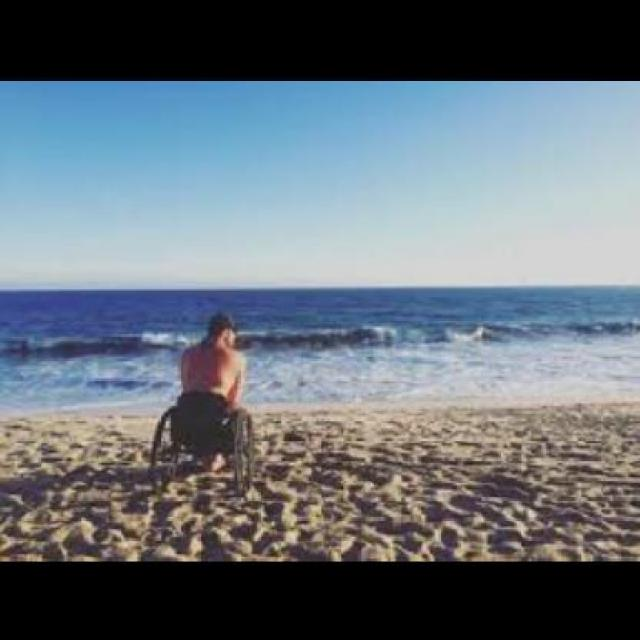wheelchairs: (140, 389, 257, 492)
